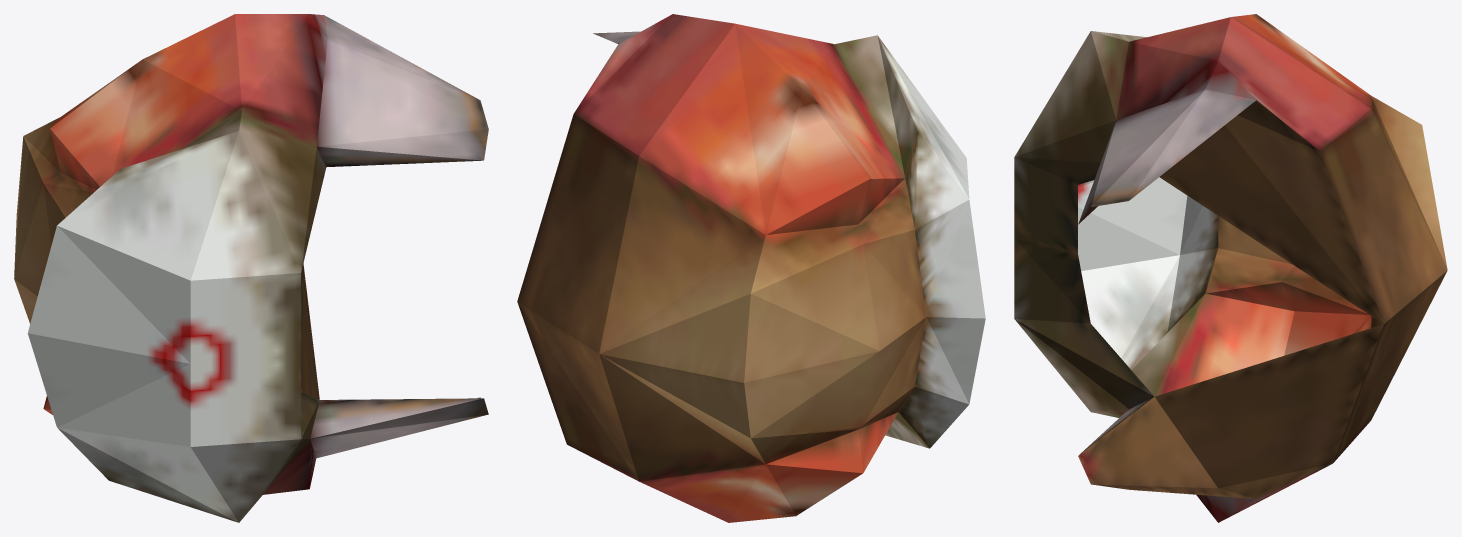
The model's file is TGHELMET.obj.
3 renders of one model, left to right at view 1: azimuth 30°, elevation 25°; view 2: azimuth 150°, elevation 25°; view 3: azimuth 270°, elevation 25°, orthographic. The views are drawn at different scales.
Visible parts, largest first — view 1: Node 0; view 2: Node 0; view 3: Node 0.
Boxes of the visible parts, x1,y1,x2,y2 form: Node 0: (14,14,488,522); Node 0: (517,14,985,522); Node 0: (1014,14,1447,522).
Bounding box in the file's own units: 0.37 × 0.41 × 0.34.
1 material, 1 textured.
